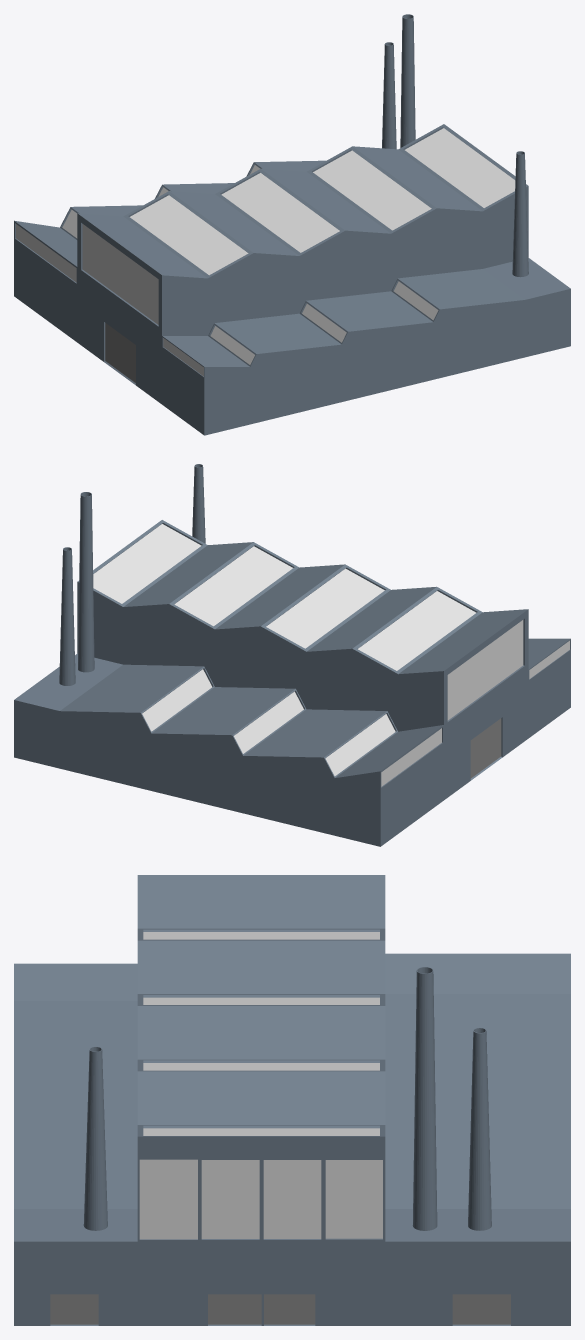
Rendered from entreprise2.fbx.
The picture shows the model from 3 angles, top to bottom: view 1: azimuth 30°, elevation 25°; view 2: azimuth 150°, elevation 25°; view 3: azimuth 270°, elevation 25°; orthographic projection. The views are drawn at different scales.
Visible parts, largest first — view 1: Cube, Cylinder, Cylinder.002, Cylinder.001; view 2: Cube, Cylinder, Cylinder.001, Cylinder.002; view 3: Cube, Cylinder, Cylinder.001, Cylinder.002.
Part boxes in pixels (x1,y1,x2,y2): Cube: (14,124,570,435); Cylinder: (400,14,415,147); Cylinder.002: (512,151,528,277); Cylinder.001: (382,42,396,149); Cube: (14,520,570,846); Cylinder: (78,492,94,672); Cylinder.001: (59,547,75,685); Cylinder.002: (192,464,205,543); Cube: (14,875,570,1325); Cylinder: (412,967,437,1230); Cylinder.001: (468,1028,491,1230); Cylinder.002: (83,1046,107,1230).
Size of the model in its own units: 1000 by 605 by 900.
